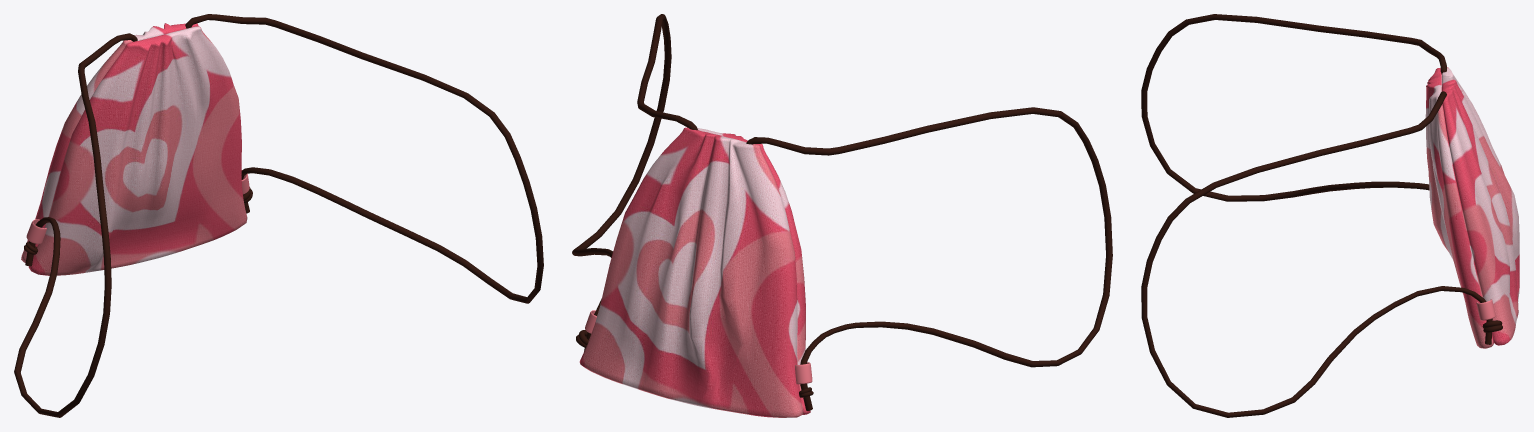
The model's file is ST_bag.glb.
The picture shows the model from 3 angles, left to right: view 1: azimuth 30°, elevation 25°; view 2: azimuth 150°, elevation 25°; view 3: azimuth 270°, elevation 25°; orthographic projection. The views are drawn at different scales.
Parts seen in each view (by area): view 1: pouch, extrudedSurface6; view 2: pouch, extrudedSurface6; view 3: pouch, extrudedSurface6.
Boxes of the visible parts, x1=… form: pouch: x1=21, y1=23, x2=249, y2=275; extrudedSurface6: x1=14, y1=14, x2=543, y2=417; pouch: x1=579, y1=127, x2=812, y2=417; extrudedSurface6: x1=572, y1=14, x2=1112, y2=410; pouch: x1=1425, y1=67, x2=1519, y2=348; extrudedSurface6: x1=1141, y1=14, x2=1502, y2=417.
Bounding box in the file's own units: 0.0366 × 0.0183 × 0.0267.
Materials: 2 (1 with a texture image).
